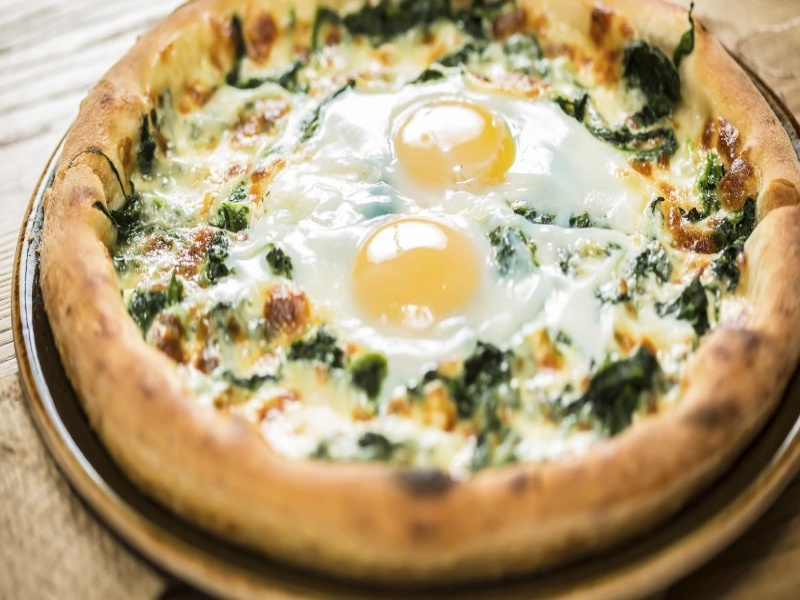oeuf: (328, 204, 504, 341), (382, 91, 532, 214)
